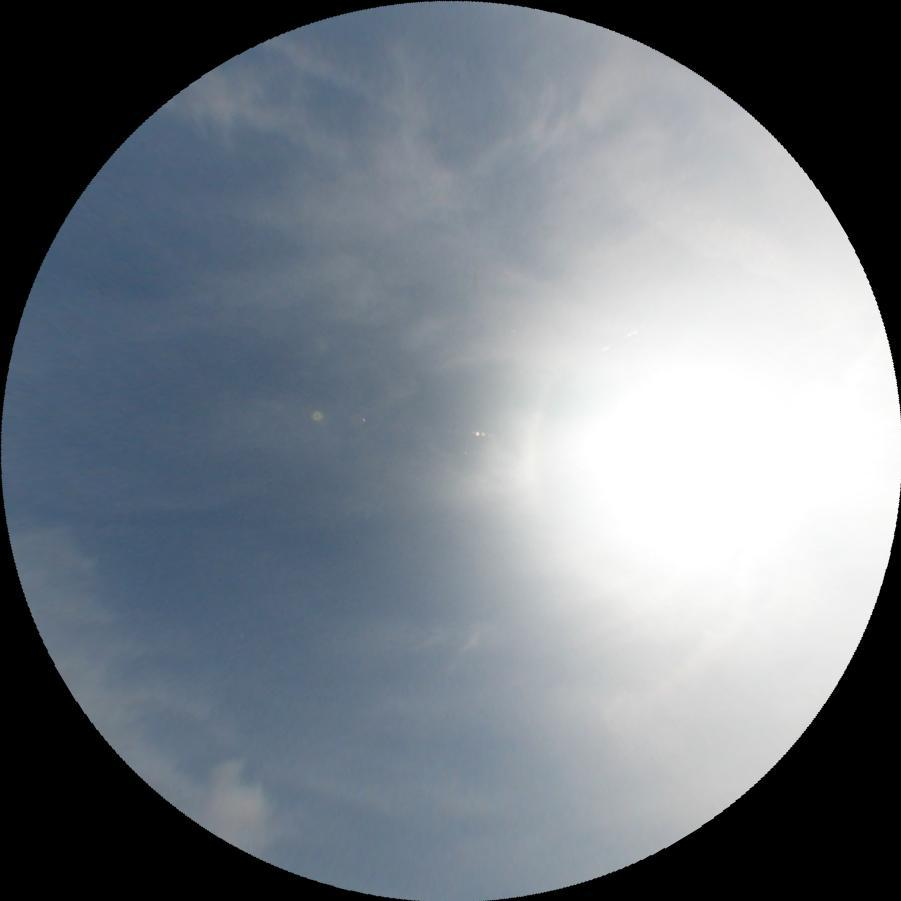contrail veryold: (261, 22, 385, 107)
sun: (581, 306, 840, 529)
